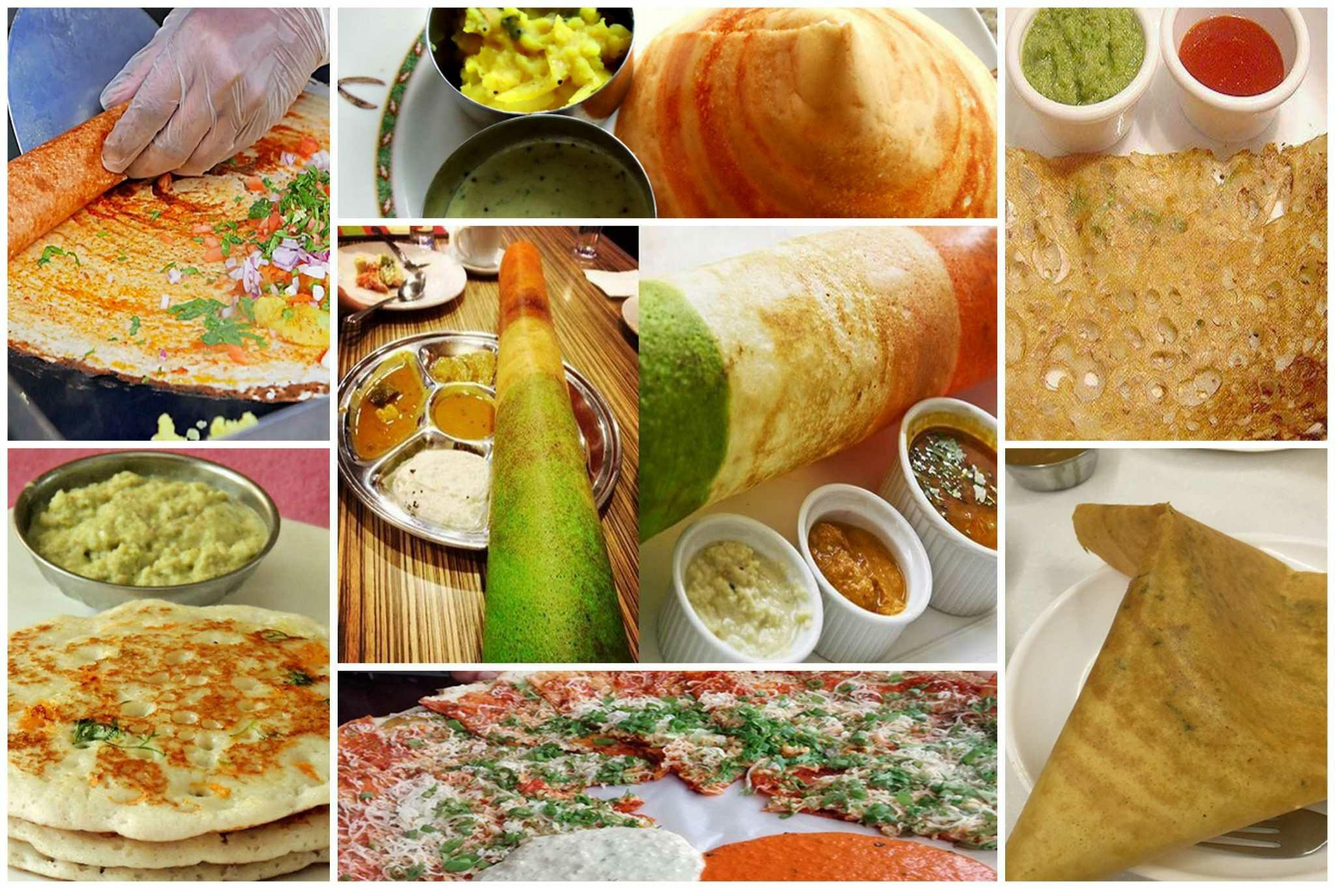CoconutChutney: (685, 539, 810, 658), (390, 450, 490, 533)
Dosa: (1006, 502, 1325, 880), (648, 228, 998, 536), (8, 99, 329, 402), (1008, 136, 1326, 441), (618, 8, 997, 217), (483, 239, 631, 661)
GreenChutney: (1024, 10, 1147, 105)
